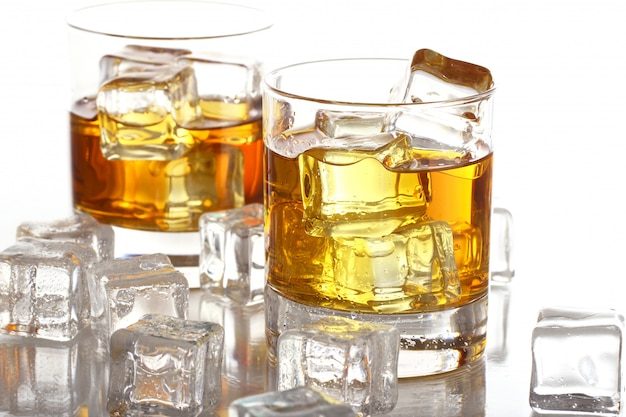alcohol: (262, 42, 492, 382), (67, 2, 274, 291)
